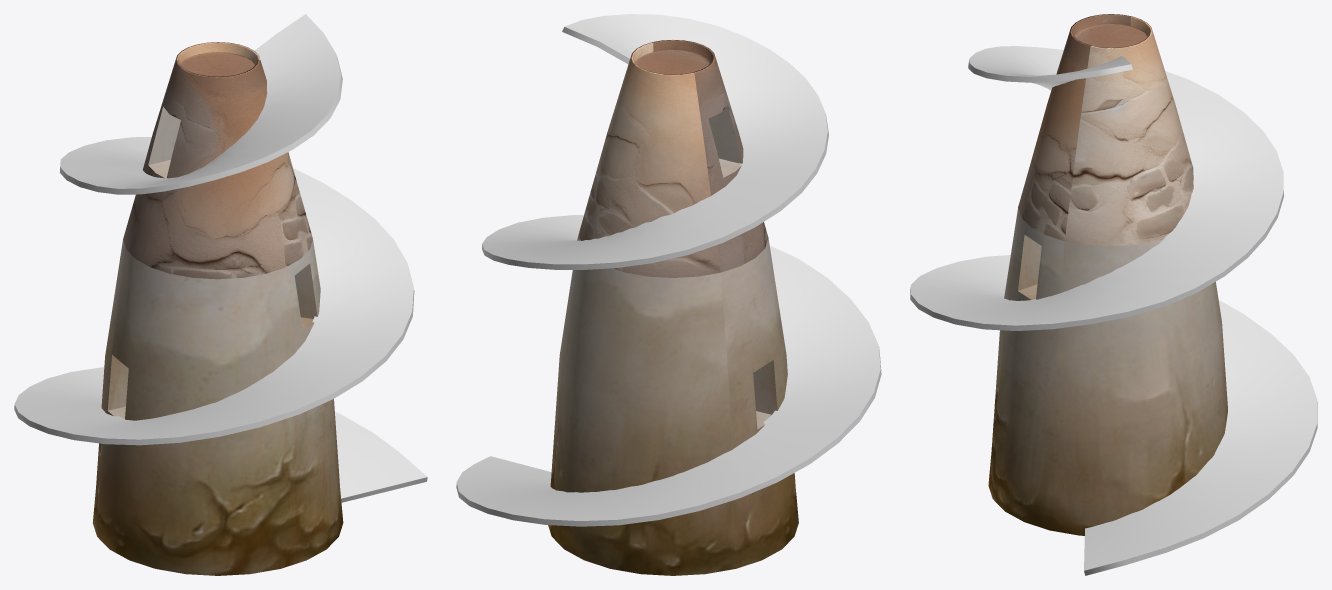
The model's file is Tower_01.fbx.
The picture shows the model from 3 angles, left to right: view 1: azimuth 30°, elevation 25°; view 2: azimuth 150°, elevation 25°; view 3: azimuth 270°, elevation 25°; orthographic projection. The views are drawn at different scales.
Visible parts, largest first — view 1: tower_lev_tower1, Plane.002; view 2: tower_lev_tower1, Plane.002; view 3: tower_lev_tower1, Plane.002.
Part boxes in pixels (left/top/right/bottom): tower_lev_tower1: left=93, top=42, right=343, bottom=575; Plane.002: left=14, top=14, right=427, bottom=502; tower_lev_tower1: left=548, top=40, right=798, bottom=575; Plane.002: left=456, top=14, right=881, bottom=526; tower_lev_tower1: left=988, top=14, right=1227, bottom=535; Plane.002: left=910, top=46, right=1317, bottom=575.
Size of the model in its own units: 4015 by 4906 by 3866.
